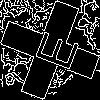E: (25, 25, 80, 73)
